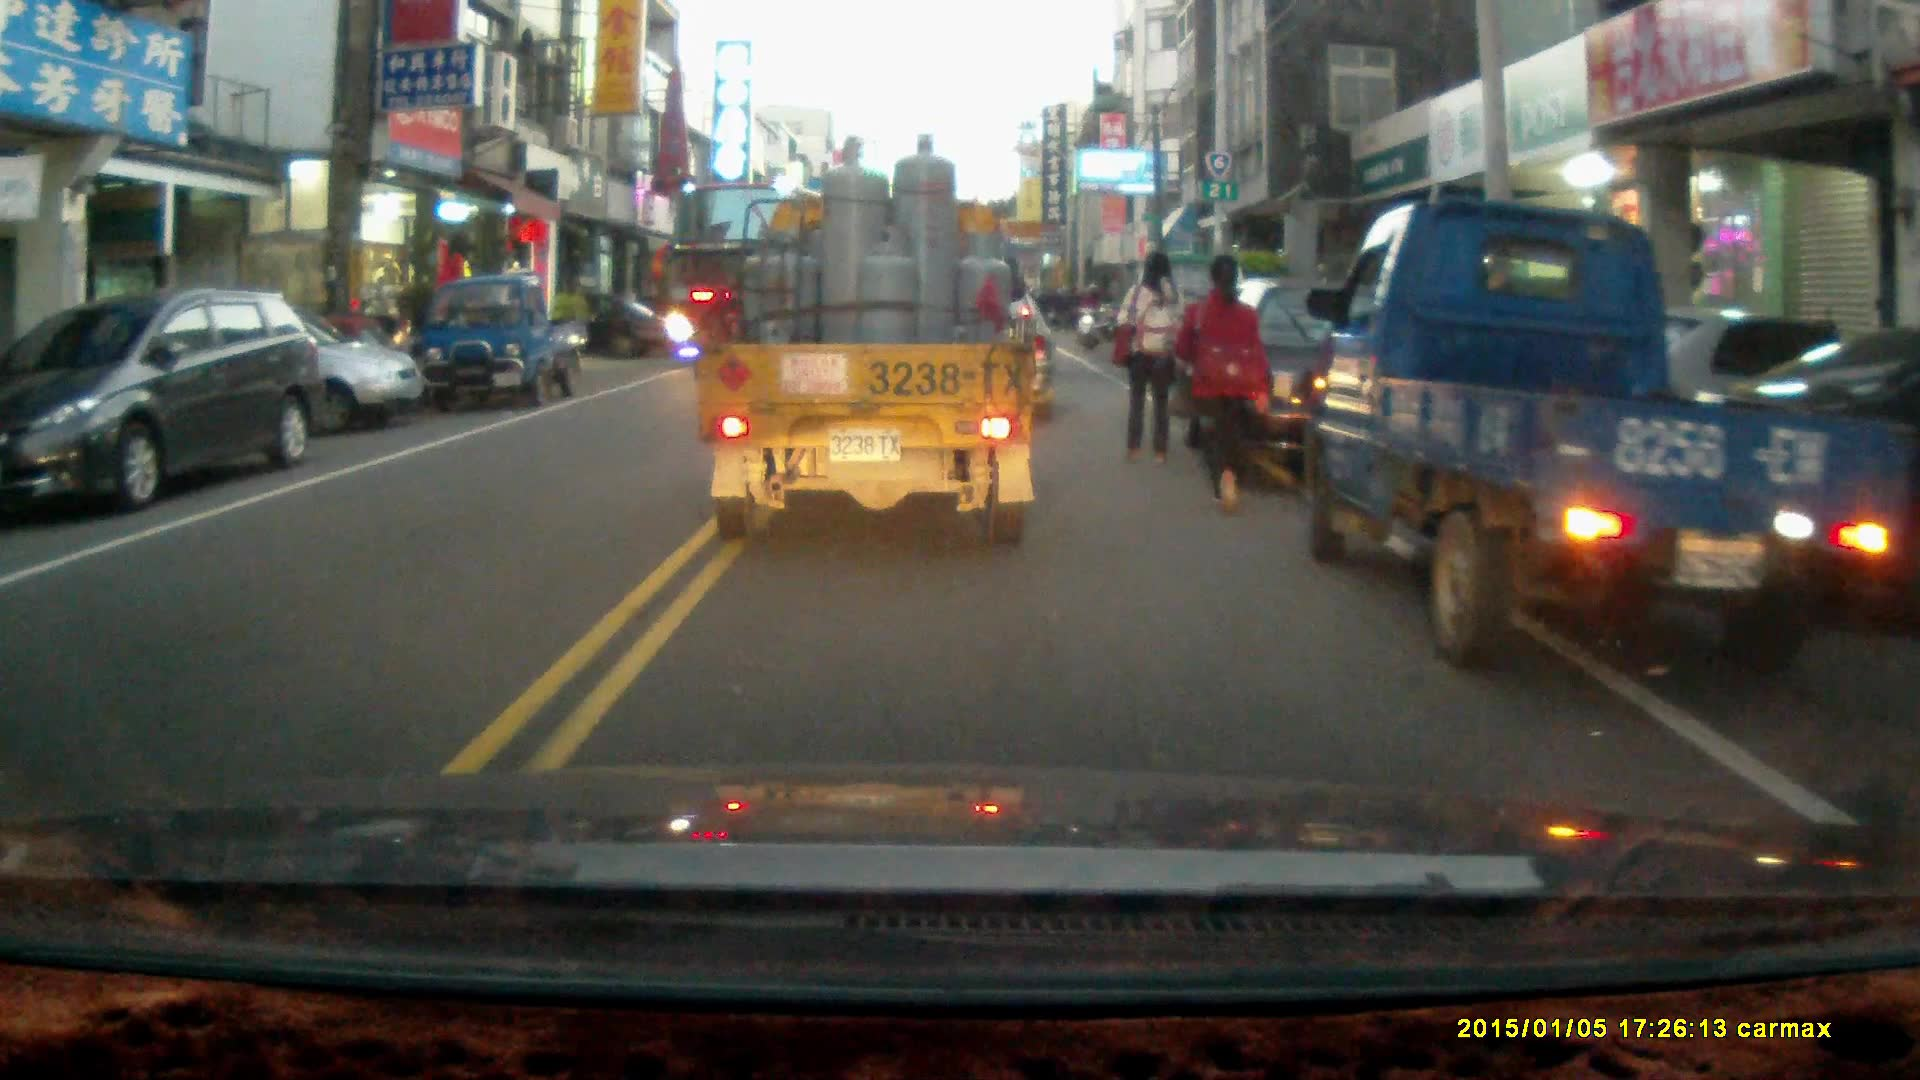pedestrian: (1171, 251, 1272, 511), (1108, 250, 1183, 469)
rider: (1073, 279, 1107, 349)
vehicle: (1305, 192, 1920, 687), (693, 127, 1041, 547), (4, 286, 323, 520), (1187, 276, 1461, 490), (113, 298, 429, 439), (660, 179, 882, 370), (421, 275, 580, 409)
